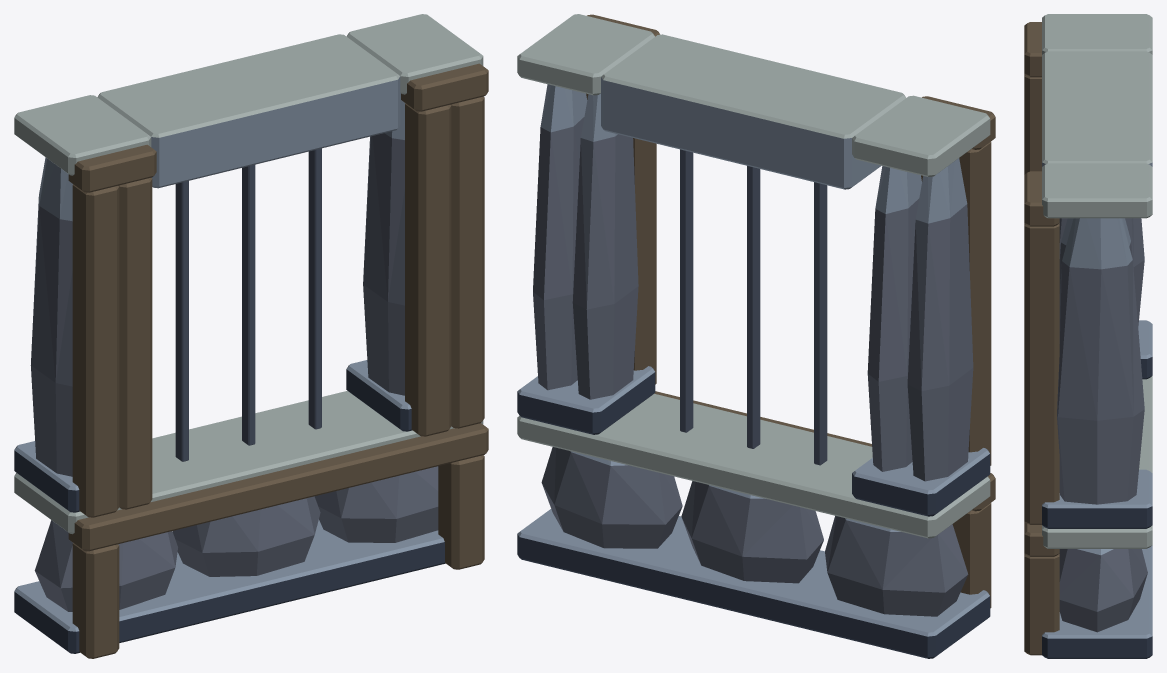
The model's file is wall-window.glb.
The picture shows the model from 3 angles, left to right: view 1: azimuth 30°, elevation 25°; view 2: azimuth 150°, elevation 25°; view 3: azimuth 270°, elevation 25°; orthographic projection. The views are drawn at different scales.
Visible parts, largest first — view 1: wall-window__body; view 2: wall-window__body; view 3: wall-window__body.
Boxes of the visible parts, x1=… form: wall-window__body: x1=14, y1=14, x2=488, y2=658; wall-window__body: x1=517, y1=14, x2=995, y2=658; wall-window__body: x1=1024, y1=14, x2=1152, y2=658.
Size of the model in its own units: 2.01 by 2.3 by 0.58.
